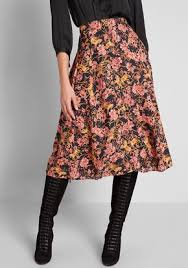C_skirt: (37, 14, 175, 185)
